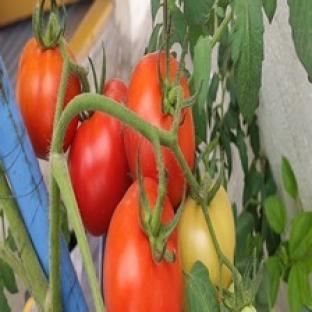Tomato: (104, 180, 182, 311), (69, 112, 130, 235), (16, 38, 64, 158), (179, 197, 220, 285), (127, 53, 172, 130), (104, 78, 128, 104)
